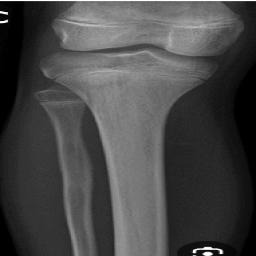cancer: (60, 133, 94, 222)
